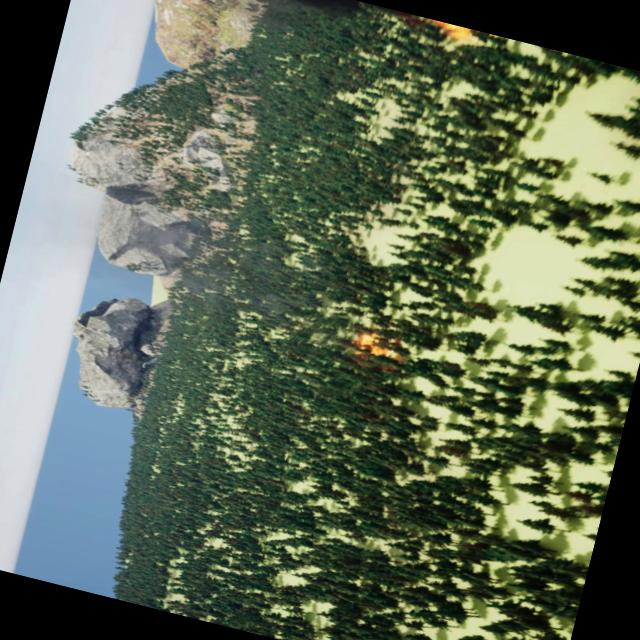fire: (342, 324, 403, 380)
